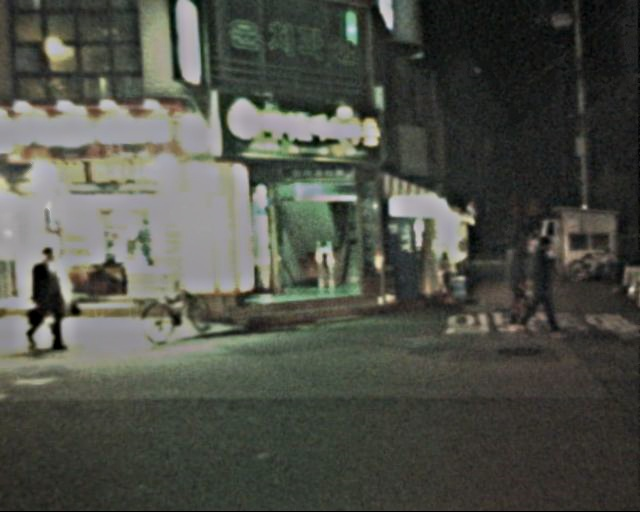person: (480, 225, 538, 335), (511, 226, 564, 343), (24, 237, 69, 355)
